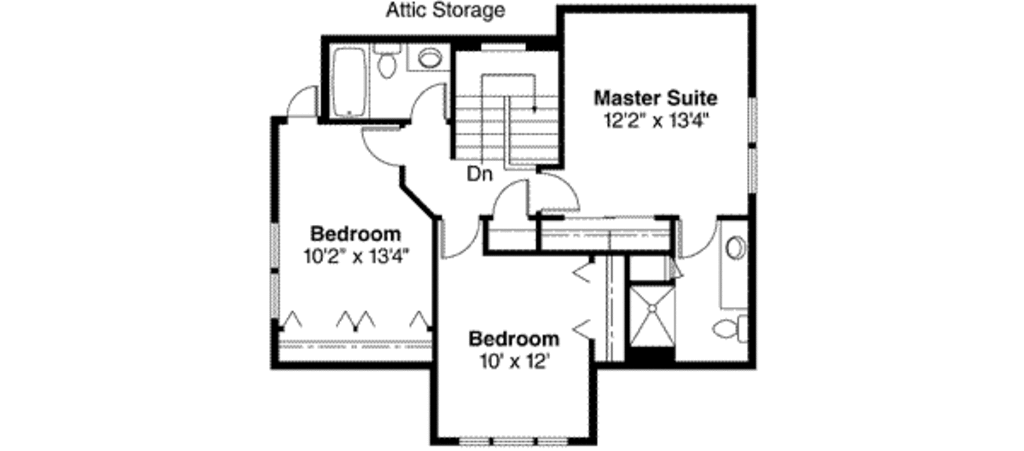door: (360, 118, 412, 169), (476, 176, 534, 220), (439, 210, 485, 264), (534, 167, 582, 216), (405, 77, 448, 124), (678, 218, 718, 257), (286, 84, 319, 117)
large_sink: (708, 311, 748, 347), (370, 42, 400, 83)
small_sink: (715, 217, 750, 308), (401, 38, 448, 73)
stairs: (449, 49, 573, 173)
tub: (325, 42, 368, 118)
window: (461, 431, 567, 449), (268, 220, 283, 320), (747, 97, 758, 192)
